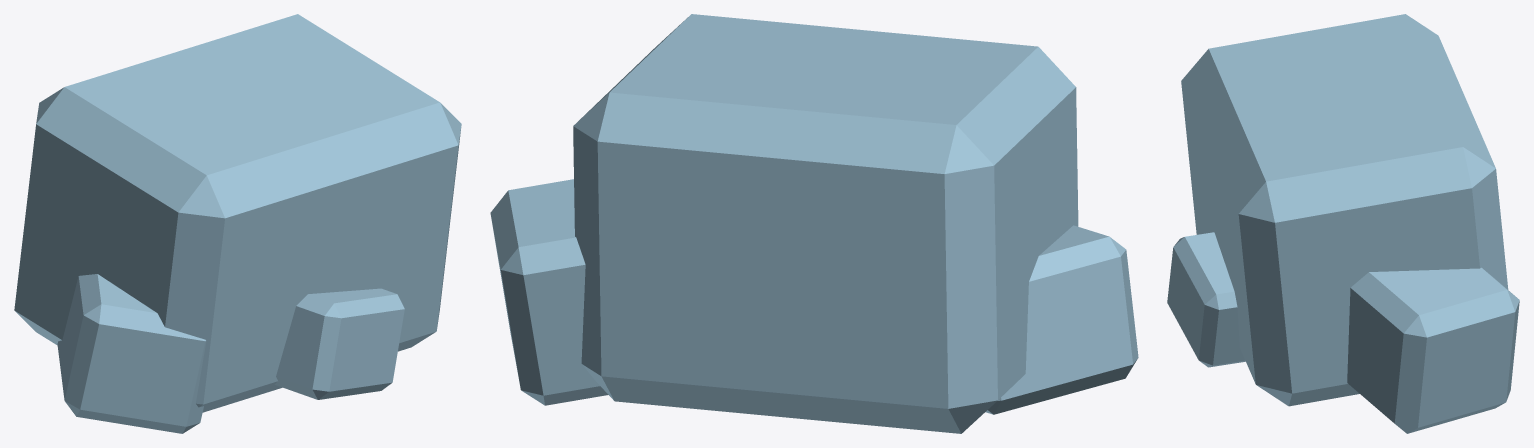
The model's file is prp_glacier.glb.
3 renders of one model, left to right at view 1: azimuth 30°, elevation 25°; view 2: azimuth 150°, elevation 25°; view 3: azimuth 270°, elevation 25°, orthographic. The views are drawn at different scales.
Parts seen in each view (by area): view 1: prp_glacier; view 2: prp_glacier; view 3: prp_glacier.
Boxes of the visible parts, left/top/right/bottom form: prp_glacier: left=14, top=14, right=461, bottom=433; prp_glacier: left=490, top=14, right=1138, bottom=433; prp_glacier: left=1167, top=14, right=1519, bottom=433.
Bounding box in the file's own units: 8.43 × 4.96 × 6.02.
